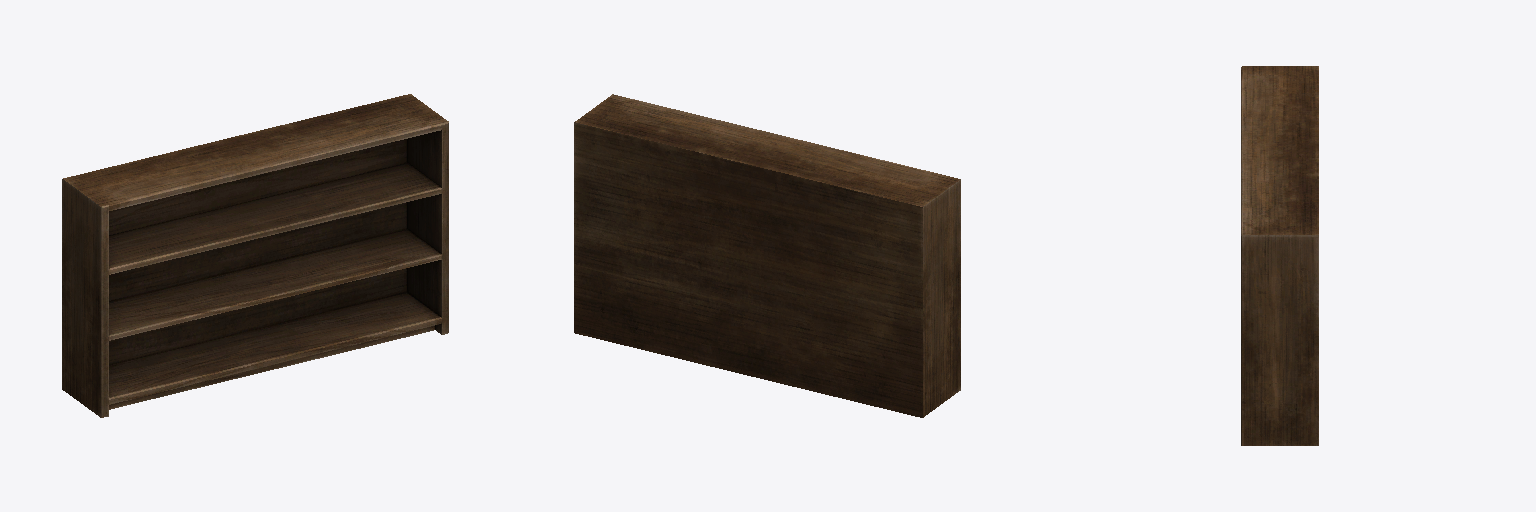
The picture shows the model from 3 angles: view 1: azimuth 30°, elevation 25°; view 2: azimuth 150°, elevation 25°; view 3: azimuth 270°, elevation 25°; orthographic projection.
Visible parts, largest first — view 1: Model_Doctor_Bookshelf; view 2: Model_Doctor_Bookshelf; view 3: Model_Doctor_Bookshelf.
Part boxes in pixels (x1,y1,x2,y2): Model_Doctor_Bookshelf: (62, 94, 448, 417); Model_Doctor_Bookshelf: (574, 94, 960, 417); Model_Doctor_Bookshelf: (1241, 66, 1318, 445).
Size of the model in its own units: 3.28 by 1.9 by 0.635.
1 materials, 1 textured.